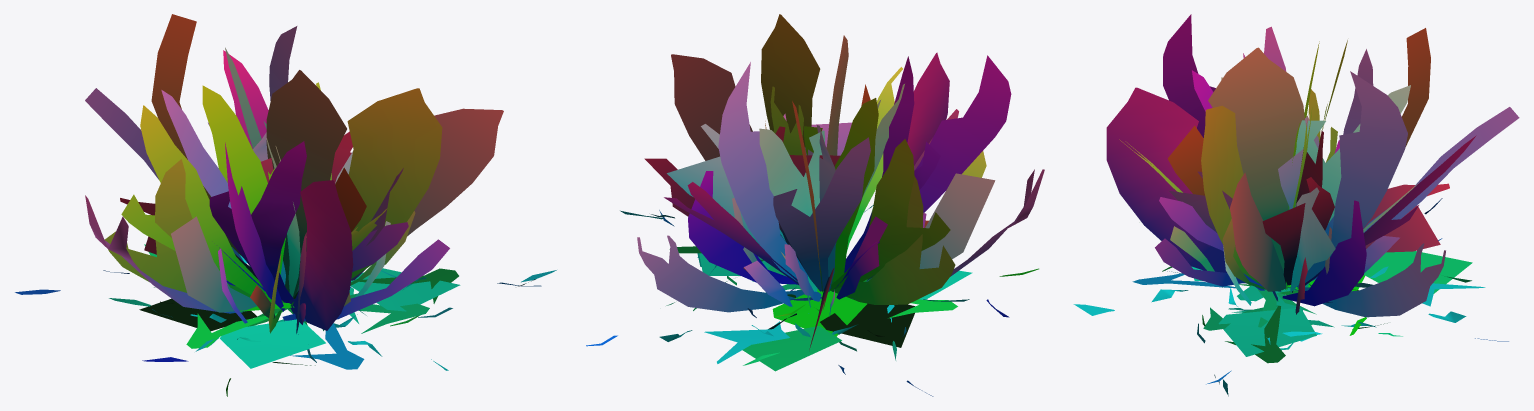
File: Dead_Shrubs_vdknafgha_Low_vdknafgha_VarC_LOD0.fbx
3 renders of one model, left to right at view 1: azimuth 30°, elevation 25°; view 2: azimuth 150°, elevation 25°; view 3: azimuth 270°, elevation 25°, orthographic. The views are drawn at different scales.
Parts seen in each view (by area): view 1: _rjs8_VarC_LOD1; view 2: _rjs8_VarC_LOD1; view 3: _rjs8_VarC_LOD1.
Part boxes in pixels (x1=…): _rjs8_VarC_LOD1: x1=15, y1=14, x2=556, y2=396; _rjs8_VarC_LOD1: x1=586, y1=14, x2=1044, y2=396; _rjs8_VarC_LOD1: x1=1073, y1=14, x2=1519, y2=396.
Size of the model in its own units: 83.12 by 45.32 by 74.69.
